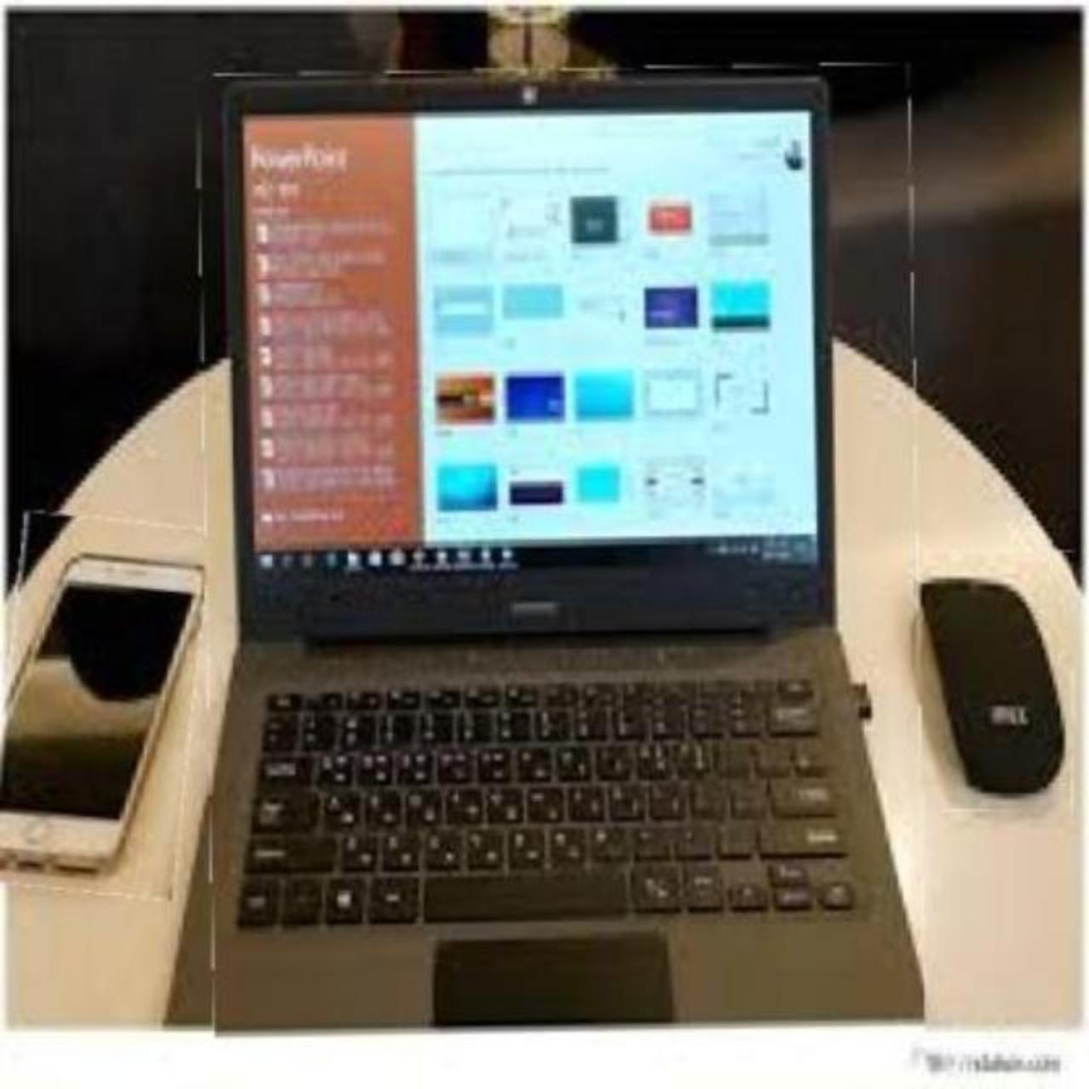laptop: (203, 65, 923, 1086)
